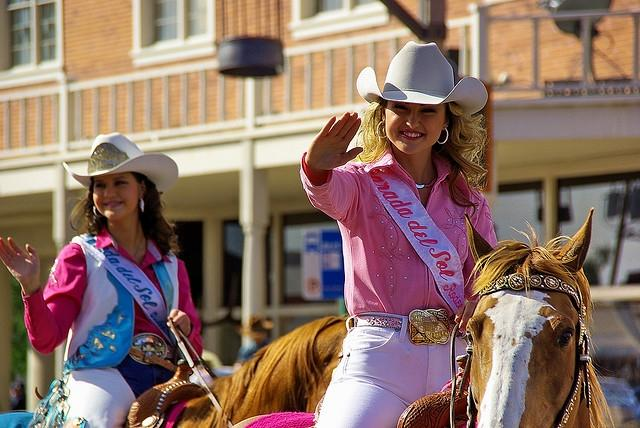strawberry: (368, 168, 464, 316), (71, 232, 175, 348)
